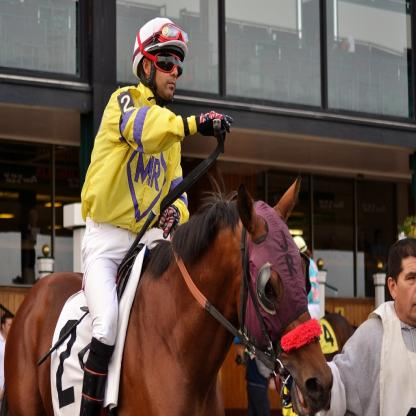Helmet: (132, 22, 186, 94)
